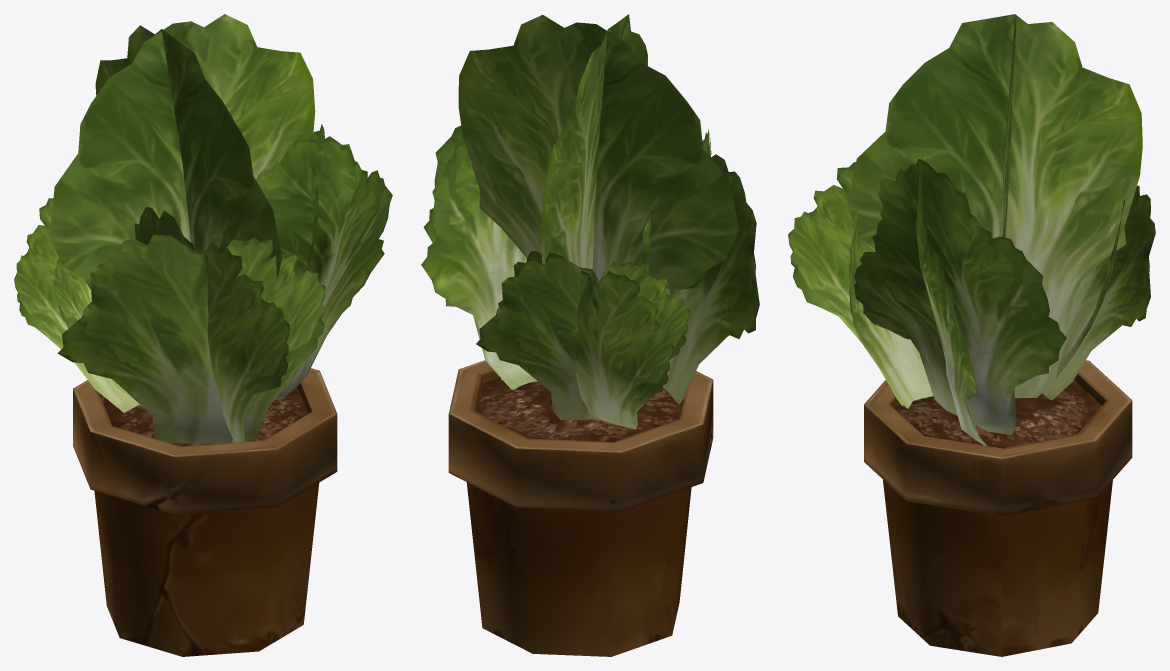
File: plant.FBX
3 renders of one model, left to right at view 1: azimuth 30°, elevation 25°; view 2: azimuth 150°, elevation 25°; view 3: azimuth 270°, elevation 25°, orthographic. The views are drawn at different scales.
Visible parts, largest first — view 1: plant; view 2: plant; view 3: plant.
Part boxes in pixels (x1,y1,x2,y2): plant: (14, 14, 392, 656); plant: (421, 14, 759, 656); plant: (788, 14, 1155, 656).
Bounding box in the file's own units: 1.16 × 2.01 × 1.14.
1 material, 1 textured.
